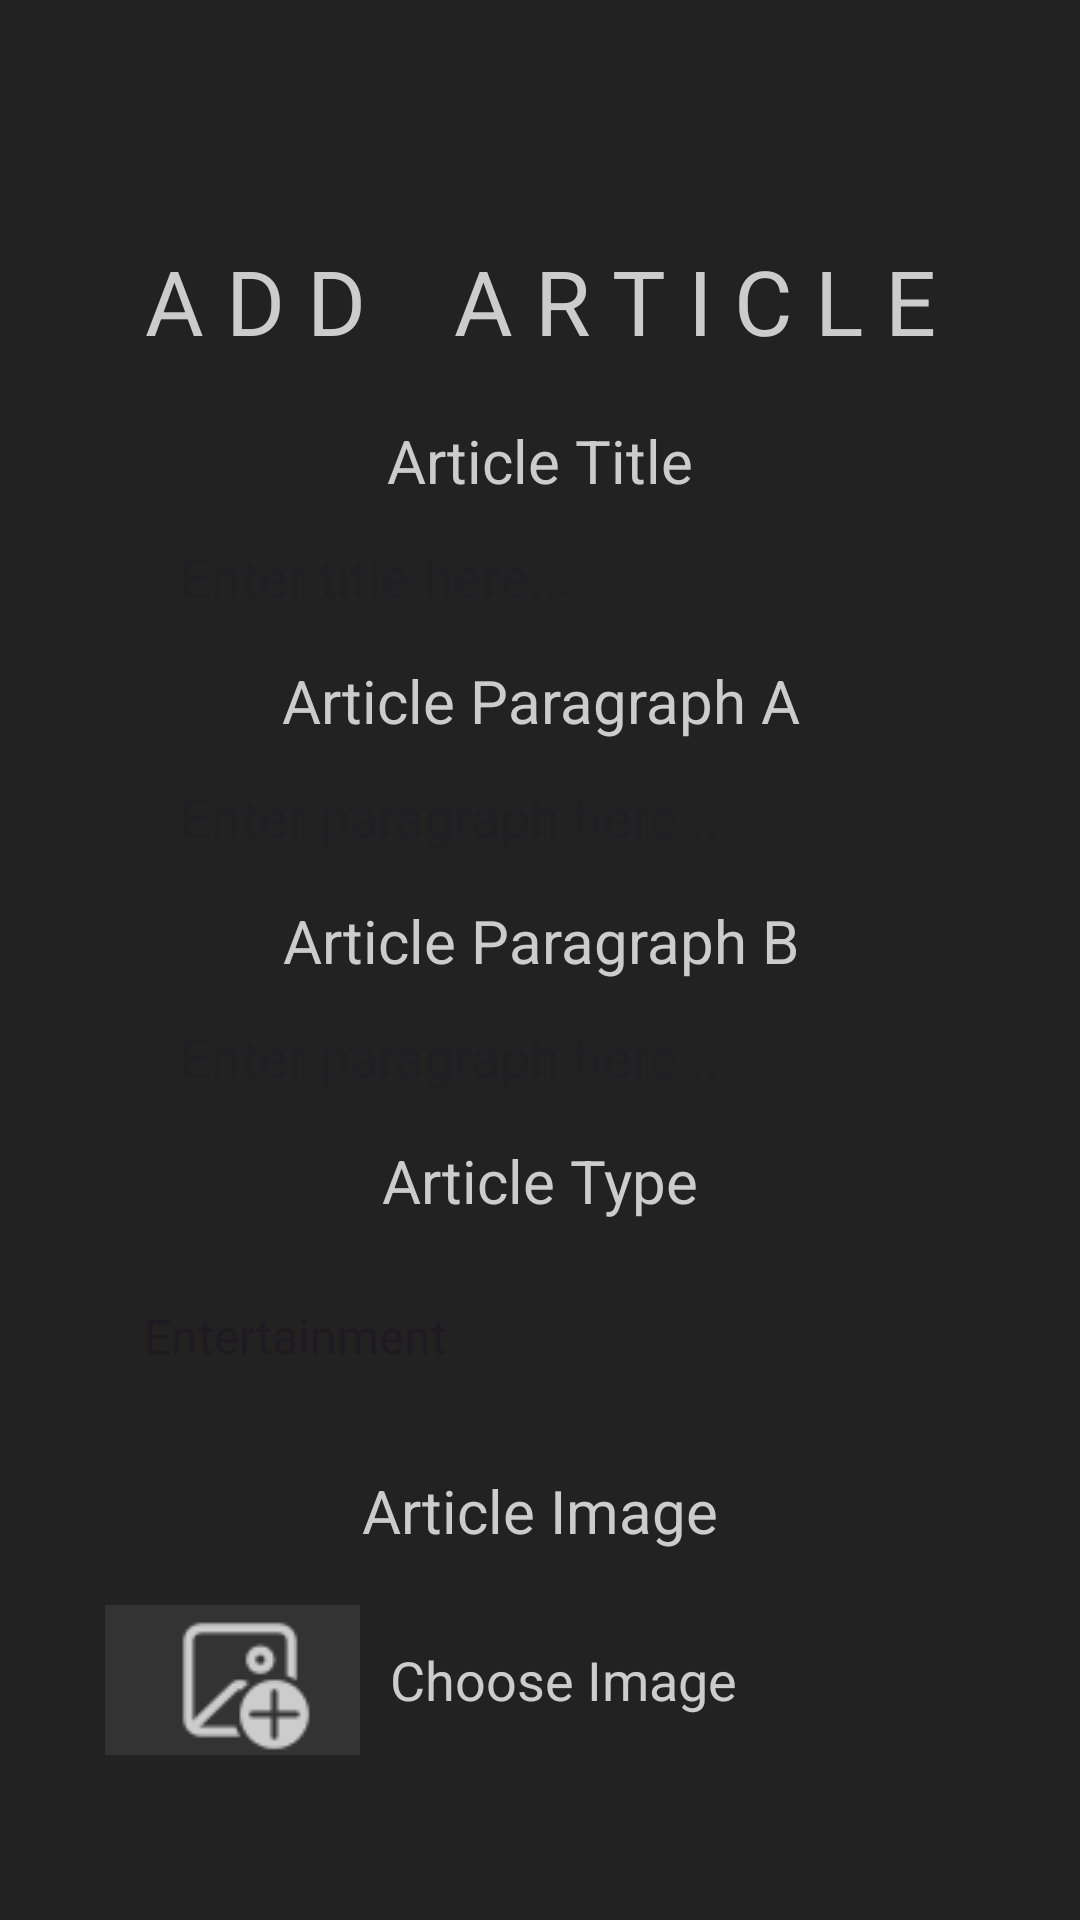

Where to tap for icons on this 1080px×1920px app screen, as [x,y]:
add: [246,1686]
